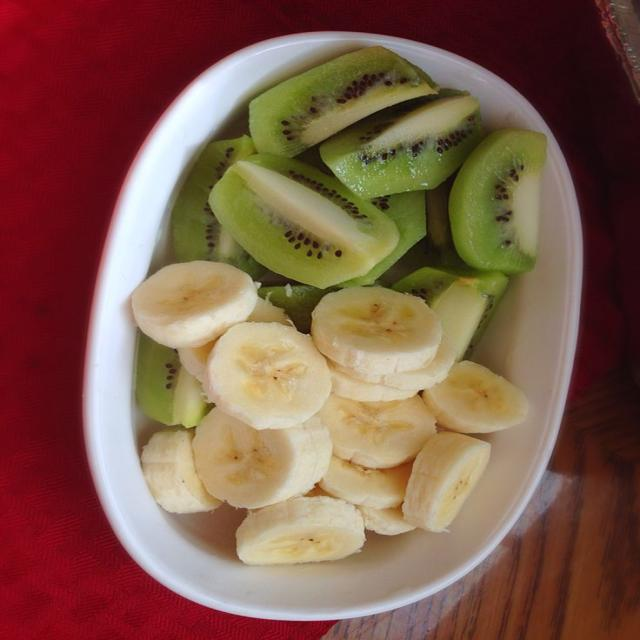banana slice: (194, 408, 332, 508), (204, 323, 331, 429), (312, 287, 441, 373), (132, 261, 257, 348), (402, 432, 490, 532), (236, 496, 365, 564), (318, 395, 435, 468), (423, 361, 528, 433), (141, 428, 221, 513), (334, 335, 455, 391), (319, 457, 411, 508), (327, 361, 416, 401), (178, 339, 217, 382), (178, 339, 216, 381), (359, 507, 415, 535), (247, 298, 293, 326)
kiwi: (209, 154, 397, 287), (250, 46, 437, 157), (320, 93, 483, 198), (449, 129, 546, 275), (172, 136, 263, 278), (393, 266, 507, 359), (340, 190, 425, 285), (136, 333, 209, 427), (259, 284, 337, 333)
